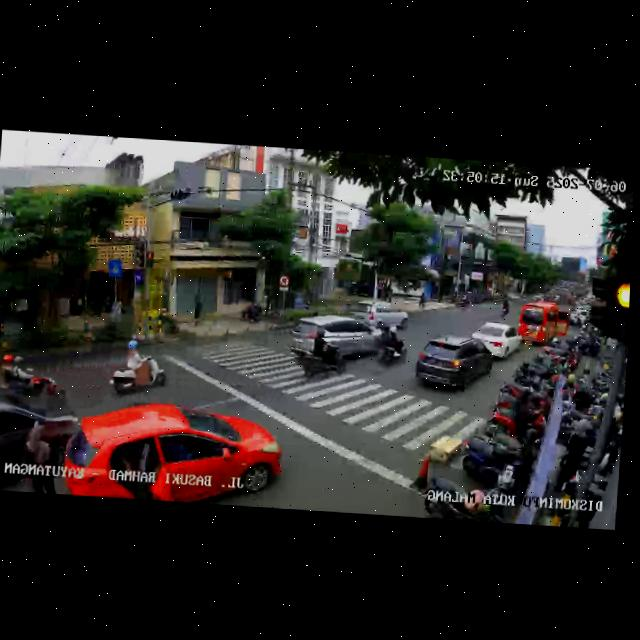car: (83, 398, 285, 508), (0, 391, 88, 495), (288, 309, 406, 375), (411, 330, 495, 398), (518, 300, 570, 349), (470, 320, 522, 361), (355, 297, 410, 329)
motorcycle: (103, 334, 173, 399), (0, 348, 72, 406), (293, 328, 349, 383), (371, 323, 413, 365)
person: (15, 420, 59, 493)
